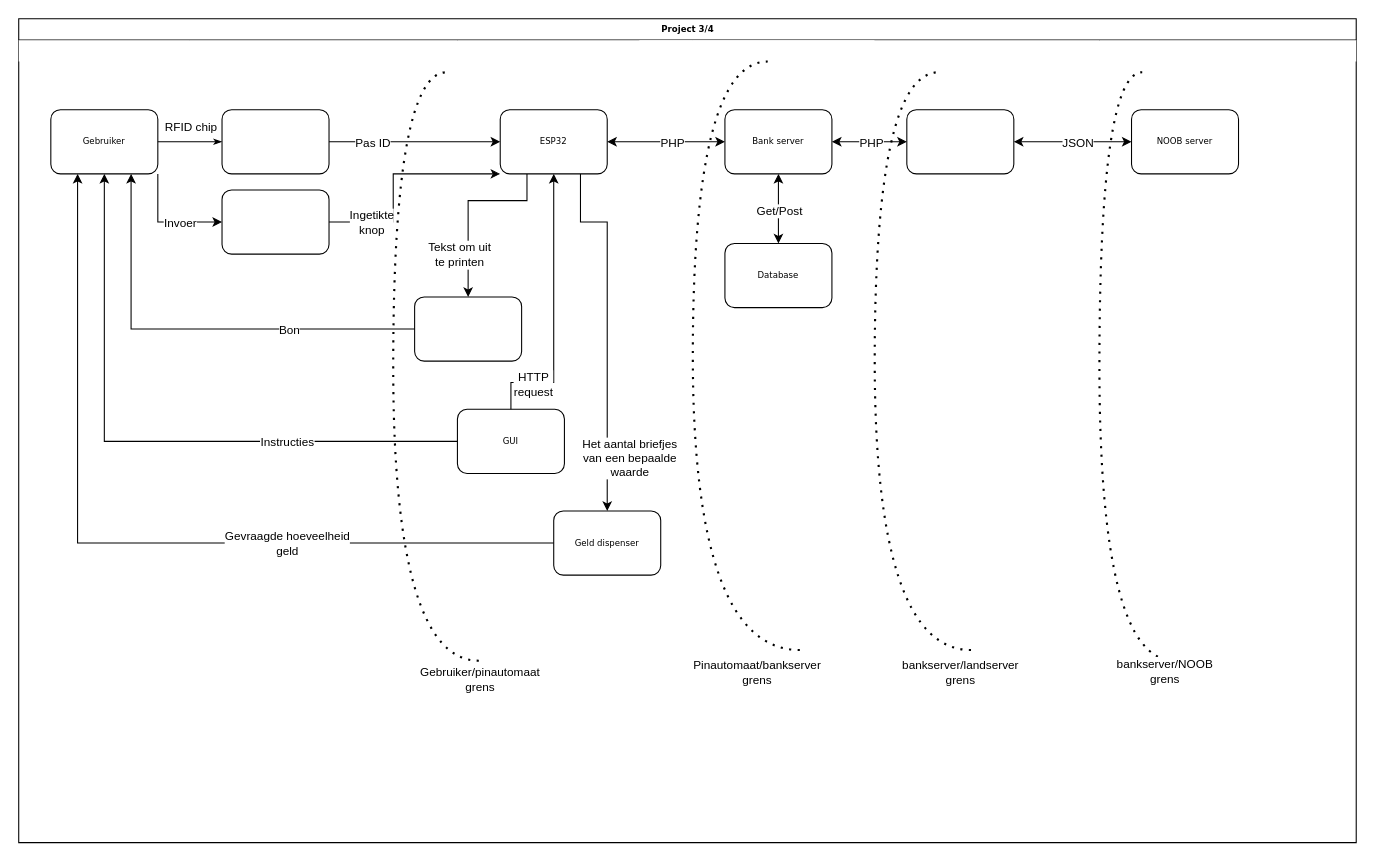
Image size: 1375x861. Some labels were removed from this diagram. The box of each missing label's shape, as (x1, y1, x2, y2) in pixels:
Bon printer: (414, 296, 522, 361)
KeyPad: (221, 189, 329, 254)
Land server: (906, 109, 1014, 174)
RFID scanner: (221, 109, 329, 174)
